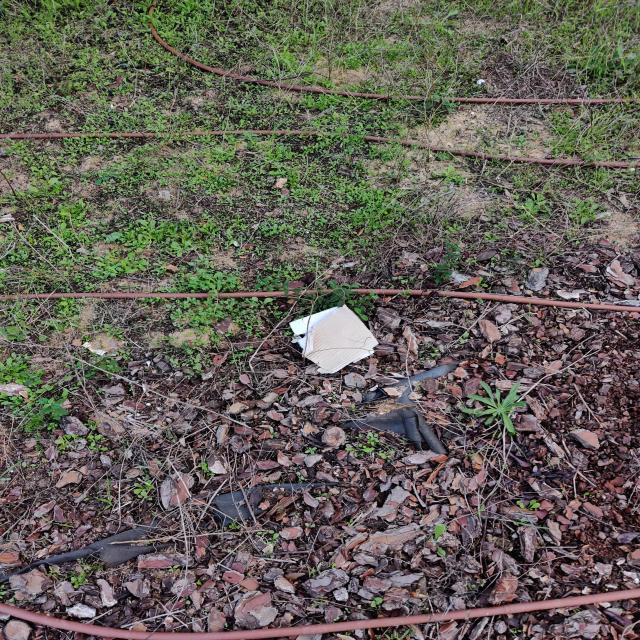litter: (0, 484, 339, 585), (341, 361, 460, 454), (450, 272, 469, 286), (477, 79, 486, 84)
